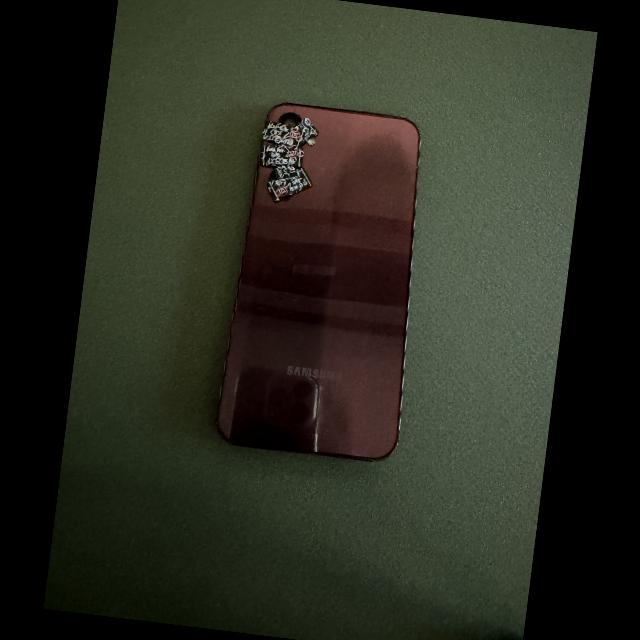lens: (281, 114, 301, 126), (270, 171, 276, 181)
phone: (216, 102, 420, 460)
sticker: (266, 166, 312, 201), (261, 121, 305, 149), (260, 144, 303, 167), (294, 117, 318, 145), (274, 166, 300, 183)
